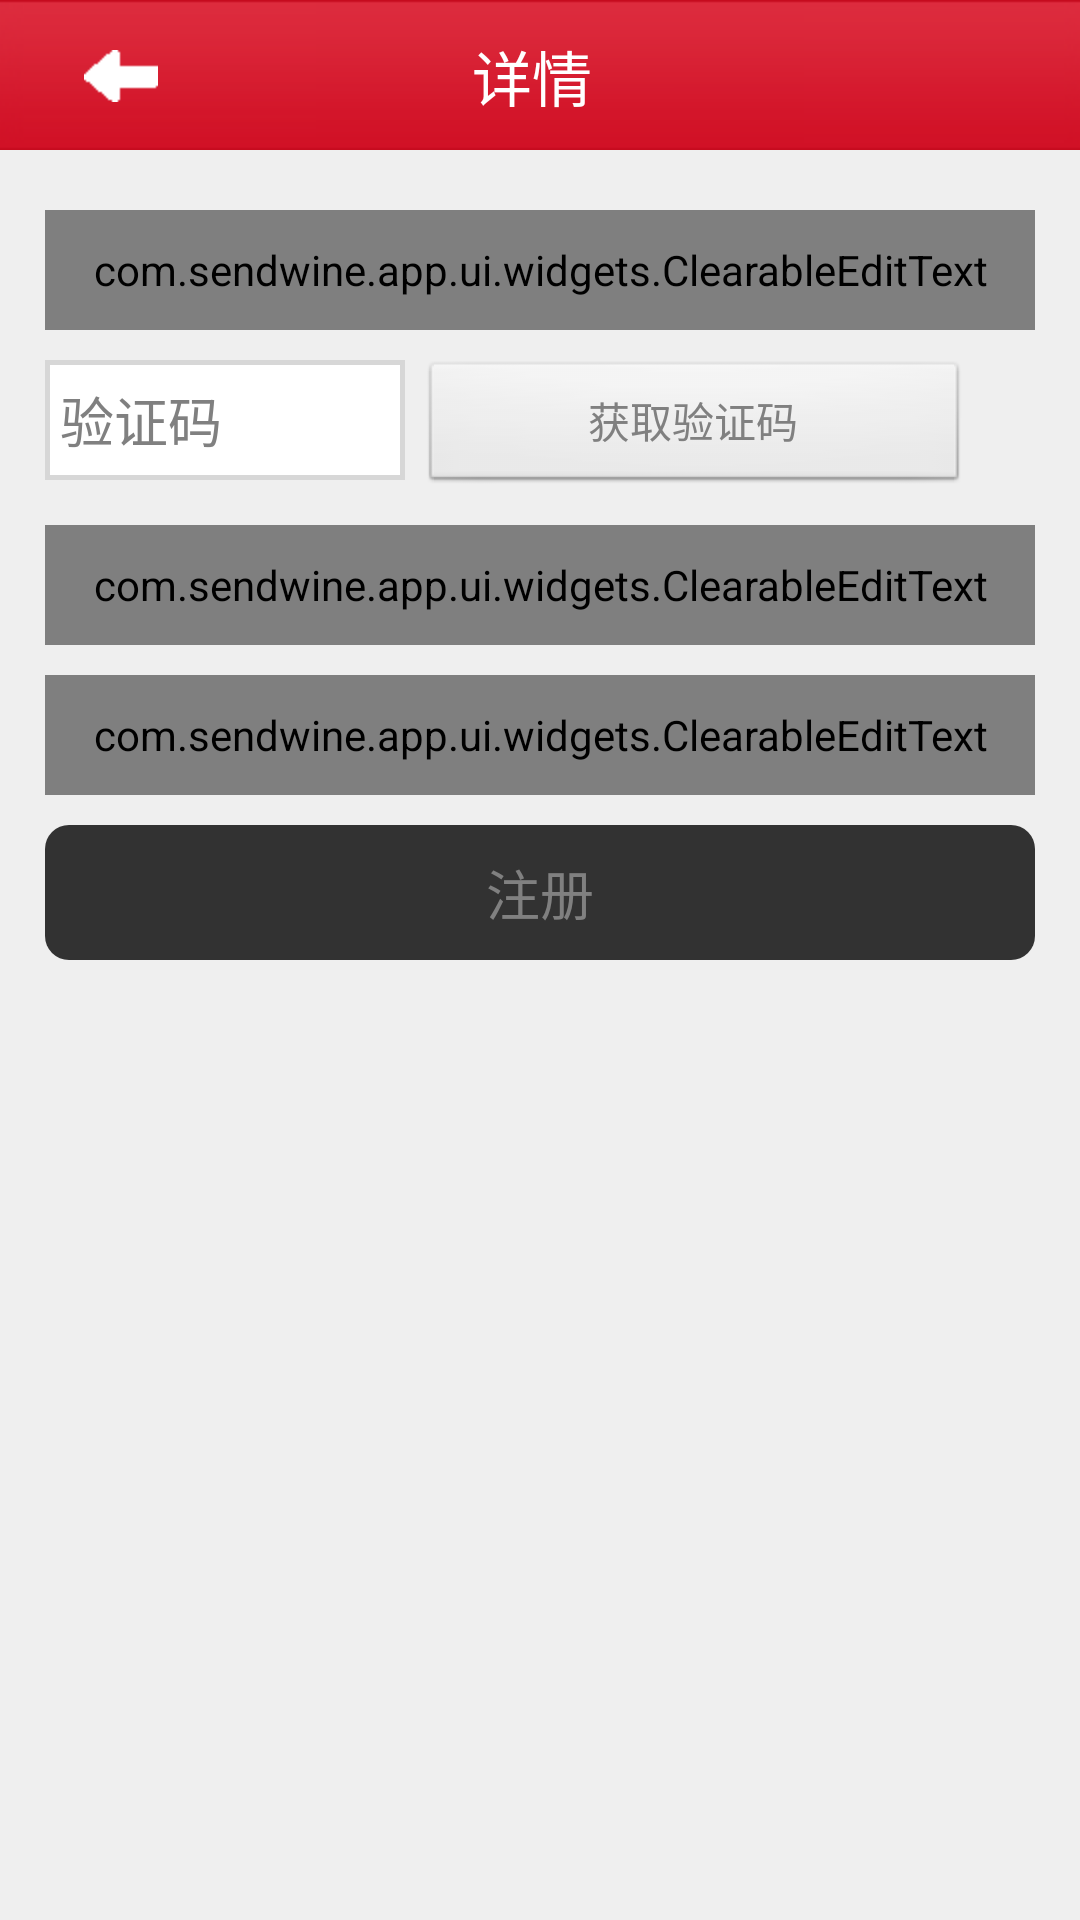

Icons on this 1080 x 1920 Android screen, each with the point to tap as [x,y]:
back: [121,76]
